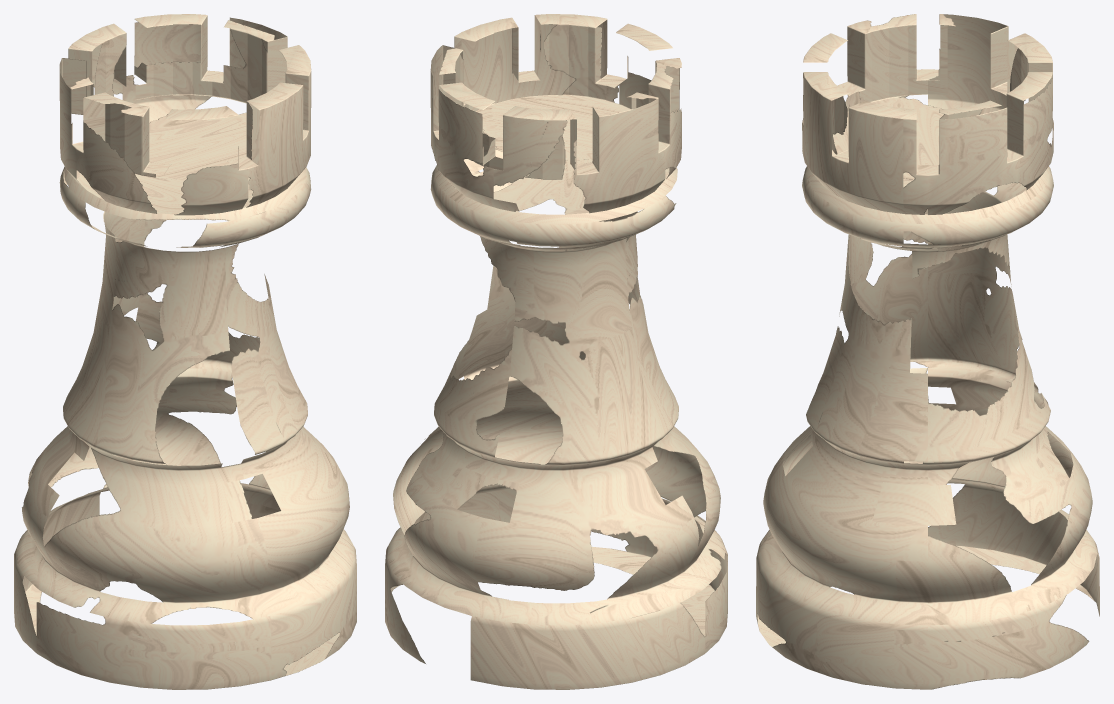
File: Rook.fbx
3 renders of one model, left to right at view 1: azimuth 30°, elevation 25°; view 2: azimuth 150°, elevation 25°; view 3: azimuth 270°, elevation 25°, orthographic.
Parts seen in each view (by area): view 1: Black rook; view 2: Black rook; view 3: Black rook.
Part boxes in pixels (x1,y1,x2,y2): Black rook: [14, 14, 356, 689]; Black rook: [385, 14, 727, 689]; Black rook: [756, 14, 1099, 689].
Bounding box in the file's own units: 254 × 449 × 254.
